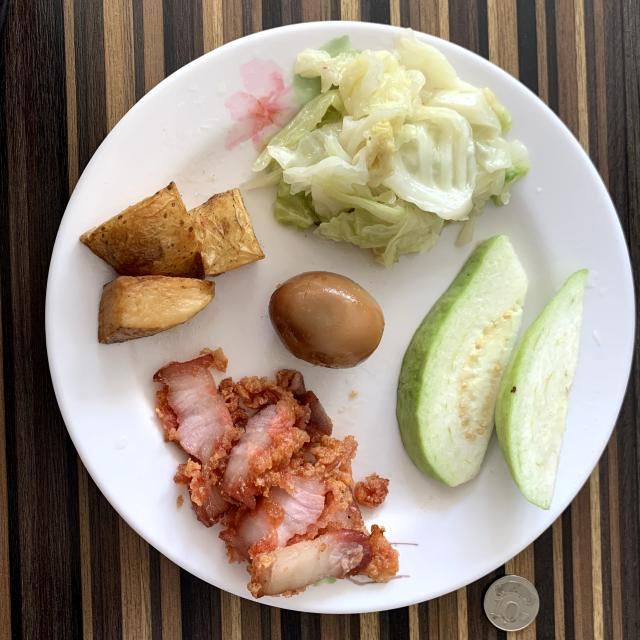cabbage: (252, 31, 529, 265)
coin: (484, 575, 540, 631)
fried potato: (80, 182, 264, 344)
guava -sliced-: (398, 235, 589, 509)
red grilled pork: (154, 350, 399, 598)
soy egg: (269, 271, 385, 369)
